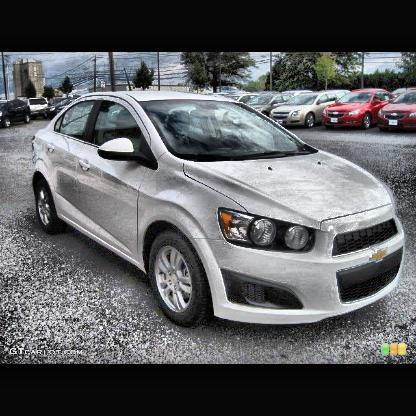Chevrolet Sonic Sedan 2012: (32, 91, 406, 323)
